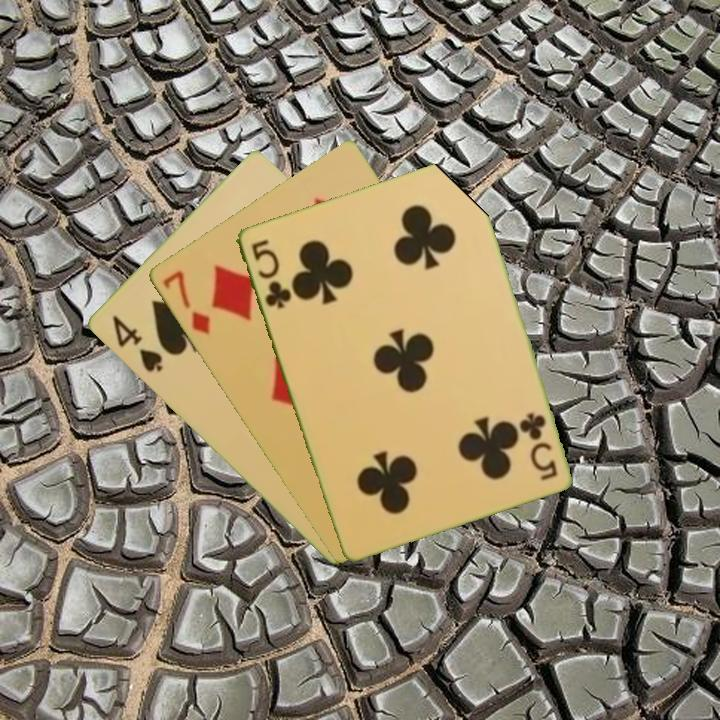4s: (108, 311, 165, 376)
5c: (247, 235, 294, 312), (517, 409, 560, 483)
7d: (158, 267, 213, 337)
